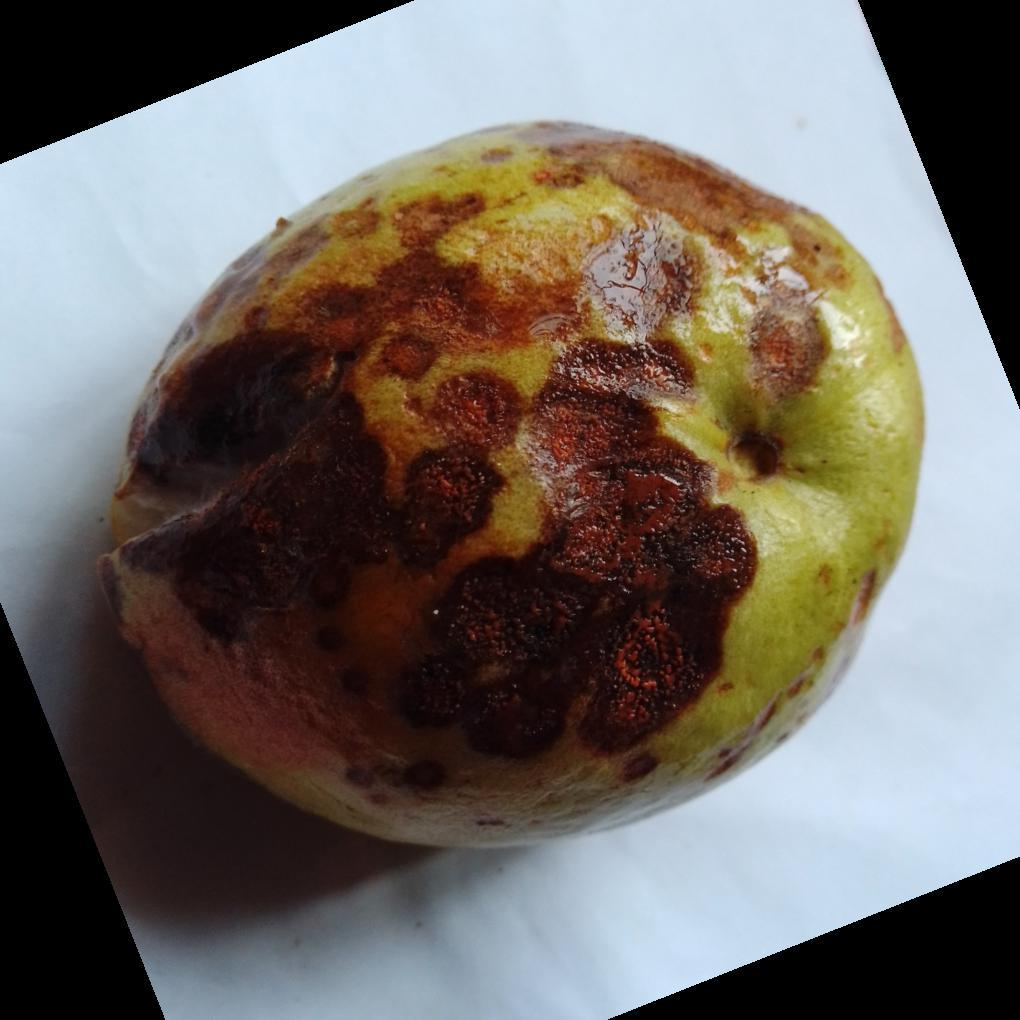FreshOrange: (95, 121, 927, 854)
